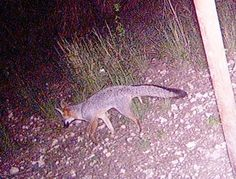fox: (47, 78, 203, 142)
